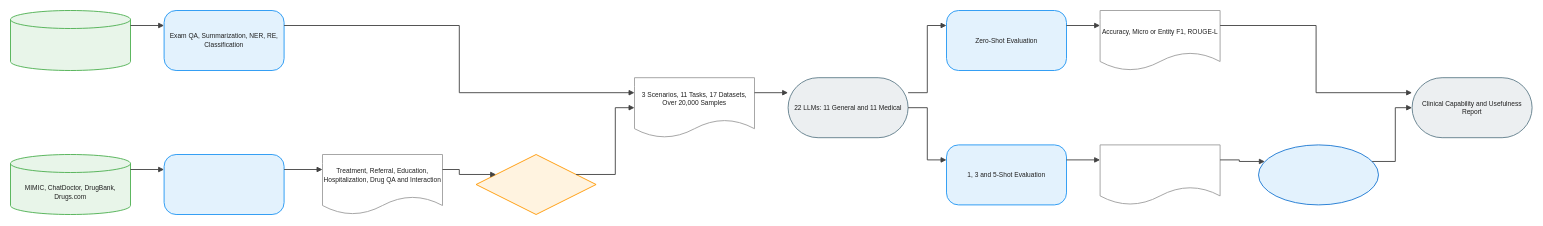
Image size: 1543x226. Some labels were removed from this diagram. The shapes that lost their labels are listed below. From the top down, each one's centre as x and y in pixels, then its label:
At (70,40): "11 Existing Clinical Datasets".
At (223,184): "6 New Clinical-Practice Tasks".
At (535,184): "GPT-4 Assistance, Expert Review, Correction and Filtering".
At (1159,174): "Hospitalization Summary and Patient Education Samples".
At (1318,174): "3 Medical Experts: Factuality, Completeness, Preference and Safety".
